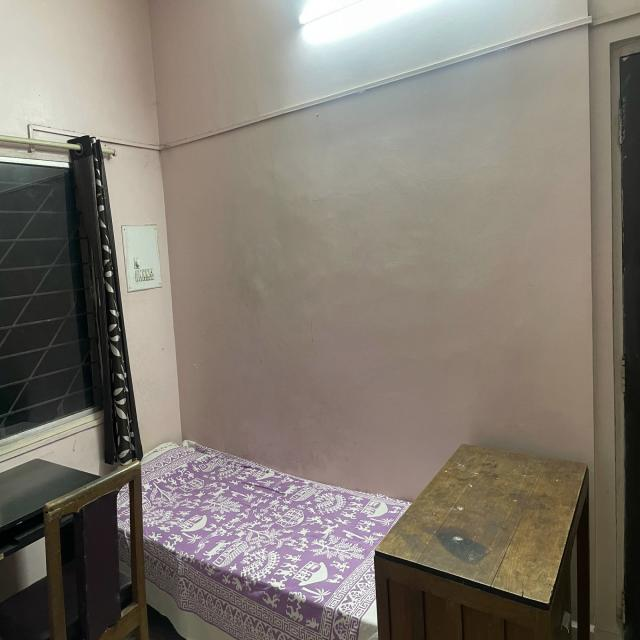Non_Damaged: (0, 3, 632, 640)
